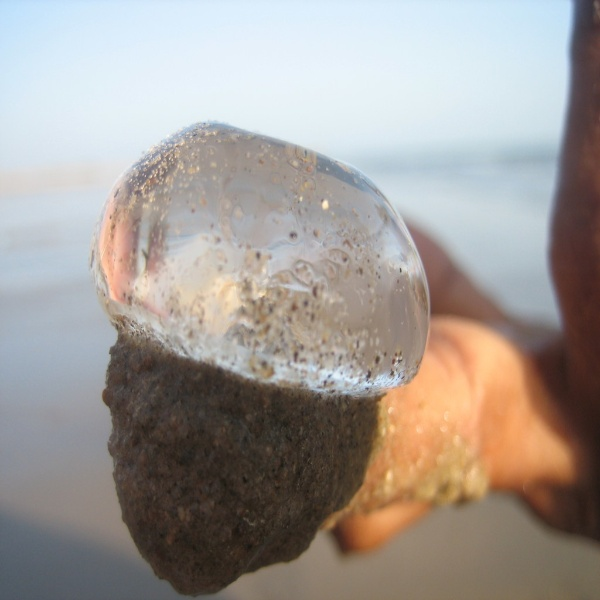Jellyfish: (84, 119, 431, 598)
